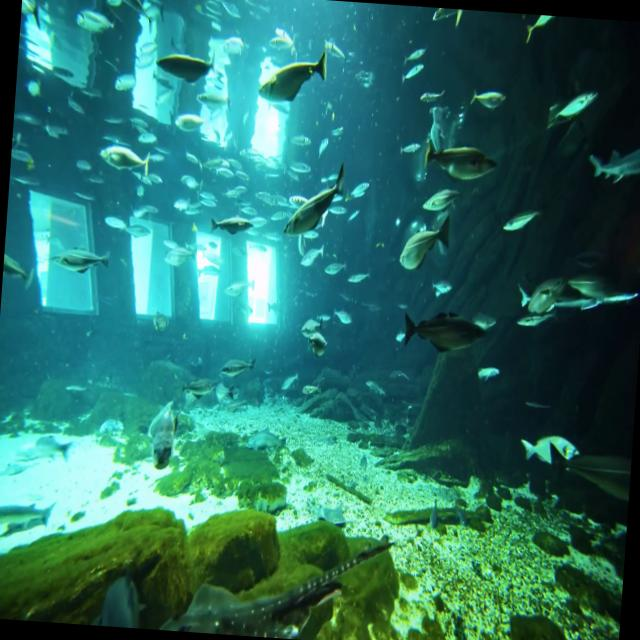fish: (281, 159, 347, 240), (257, 46, 331, 108), (398, 308, 483, 359), (420, 131, 496, 186), (400, 209, 451, 279), (95, 136, 153, 180)
